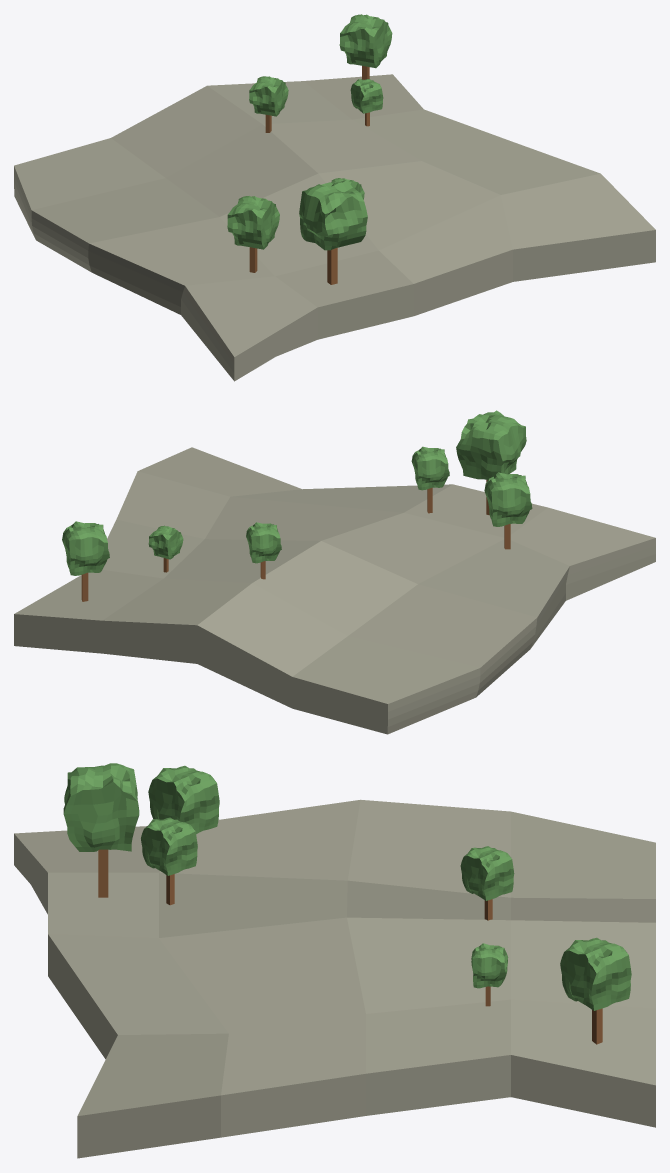
File: island3.glb
3 renders of one model, top to bottom at view 1: azimuth 30°, elevation 25°; view 2: azimuth 150°, elevation 25°; view 3: azimuth 270°, elevation 25°, orthographic. The views are drawn at different scales.
Parts seen in each view (by area): view 1: Hill, Tree, Tree.002, Tree.003, Tree.006, Tree.004; view 2: Hill, Tree, Tree.003, Tree.002, Tree.001, Tree.006, Tree.004; view 3: Hill, Tree, Tree.003, Tree.002, Tree.001, Tree.006, Tree.004.
Boxes of the visible parts, <box> form: Hill: <box>14,74,655,381</box>; Tree: <box>299,180,367,250</box>; Tree.002: <box>227,196,279,249</box>; Tree.003: <box>339,14,392,68</box>; Tree.006: <box>249,76,288,116</box>; Tree.004: <box>350,79,383,113</box>; Hill: <box>14,447,655,734</box>; Tree: <box>456,410,526,480</box>; Tree.003: <box>62,521,109,575</box>; Tree.002: <box>484,472,532,526</box>; Tree.001: <box>411,446,449,490</box>; Tree.006: <box>246,522,281,563</box>; Tree.004: <box>148,525,183,559</box>; Hill: <box>14,799,655,1158</box>; Tree: <box>63,763,139,851</box>; Tree.003: <box>560,937,631,1010</box>; Tree.002: <box>148,765,219,834</box>; Tree.001: <box>141,817,197,875</box>; Tree.006: <box>460,846,514,900</box>; Tree.004: <box>471,943,508,988</box>.
Bounding box in the file's own units: 2.73 × 0.8216 × 2.54.
